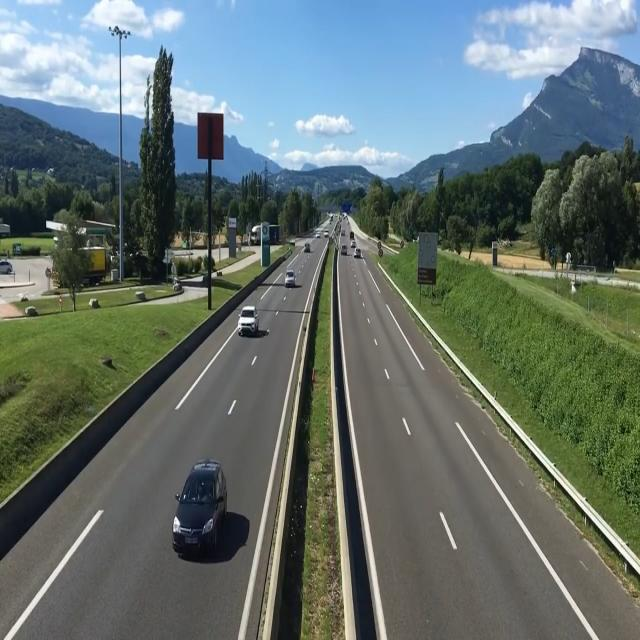car: (176, 457, 232, 560), (235, 301, 265, 340)
truck: (249, 220, 267, 249)
